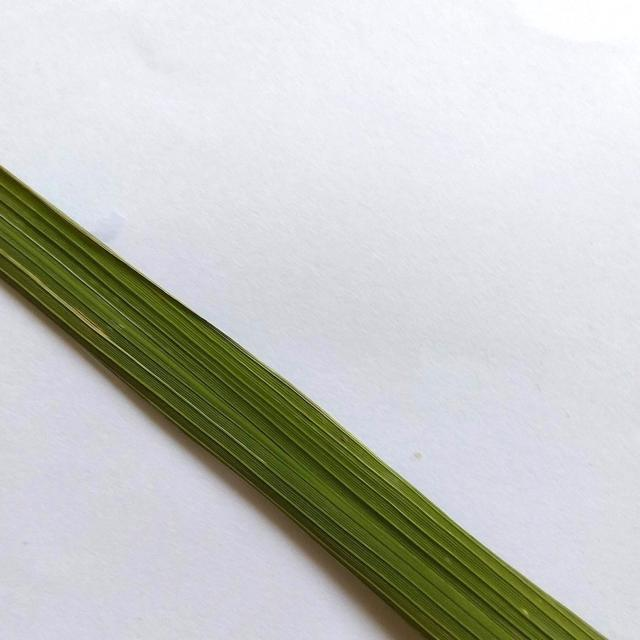healthy: (1, 158, 617, 640)
